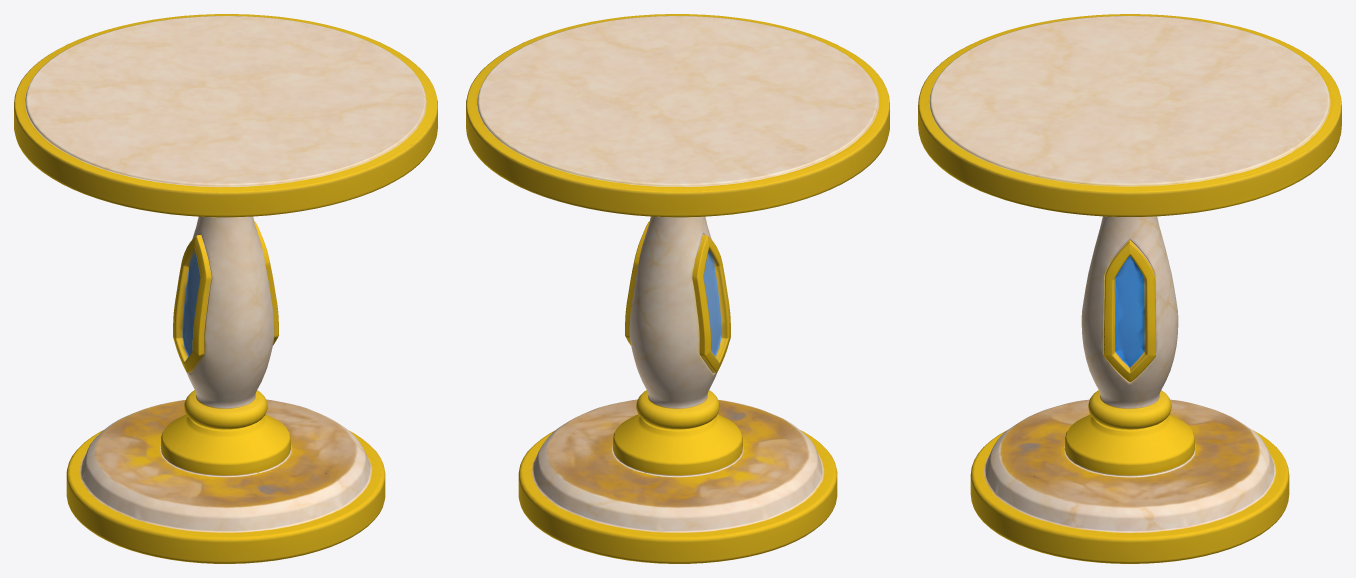
File: NEW_CafeTable_SM_tex4k_pbr_src.fbx
The picture shows the model from 3 angles, left to right: view 1: azimuth 30°, elevation 25°; view 2: azimuth 150°, elevation 25°; view 3: azimuth 270°, elevation 25°; orthographic projection.
Visible parts, largest first — view 1: a626fa42_60ab_4e21_b691_47be0dd1eb26; view 2: a626fa42_60ab_4e21_b691_47be0dd1eb26; view 3: a626fa42_60ab_4e21_b691_47be0dd1eb26.
Boxes of the visible parts, x1,y1,x2,y2 form: a626fa42_60ab_4e21_b691_47be0dd1eb26: (14, 14, 437, 563); a626fa42_60ab_4e21_b691_47be0dd1eb26: (466, 14, 889, 563); a626fa42_60ab_4e21_b691_47be0dd1eb26: (918, 14, 1341, 563).
Bounding box in the file's own units: 0.9644 × 0.9995 × 0.9644.
1 material, 1 textured.
